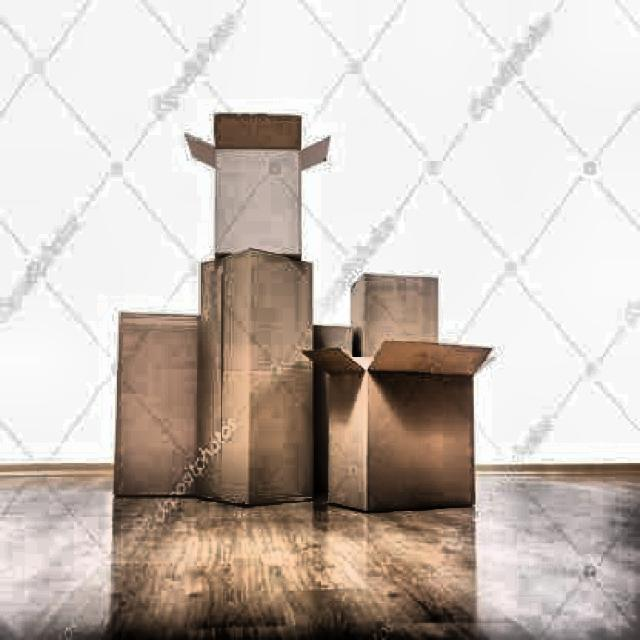Cardbox: (301, 322, 499, 520), (184, 241, 316, 518), (92, 284, 226, 504), (180, 101, 341, 252)
